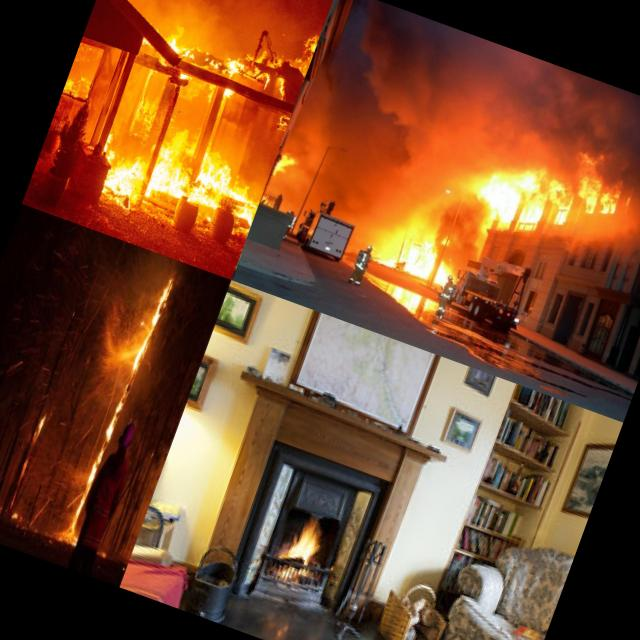fire: (62, 267, 182, 547), (154, 16, 268, 114), (476, 154, 580, 242), (384, 224, 468, 293), (564, 145, 634, 221), (134, 140, 200, 212), (96, 134, 159, 206), (278, 501, 338, 576), (211, 170, 267, 241), (192, 138, 248, 195), (285, 28, 321, 85), (270, 146, 301, 183)
smoke: (332, 7, 508, 220), (487, 48, 640, 161), (276, 59, 368, 179), (557, 206, 640, 269), (613, 102, 640, 248)
